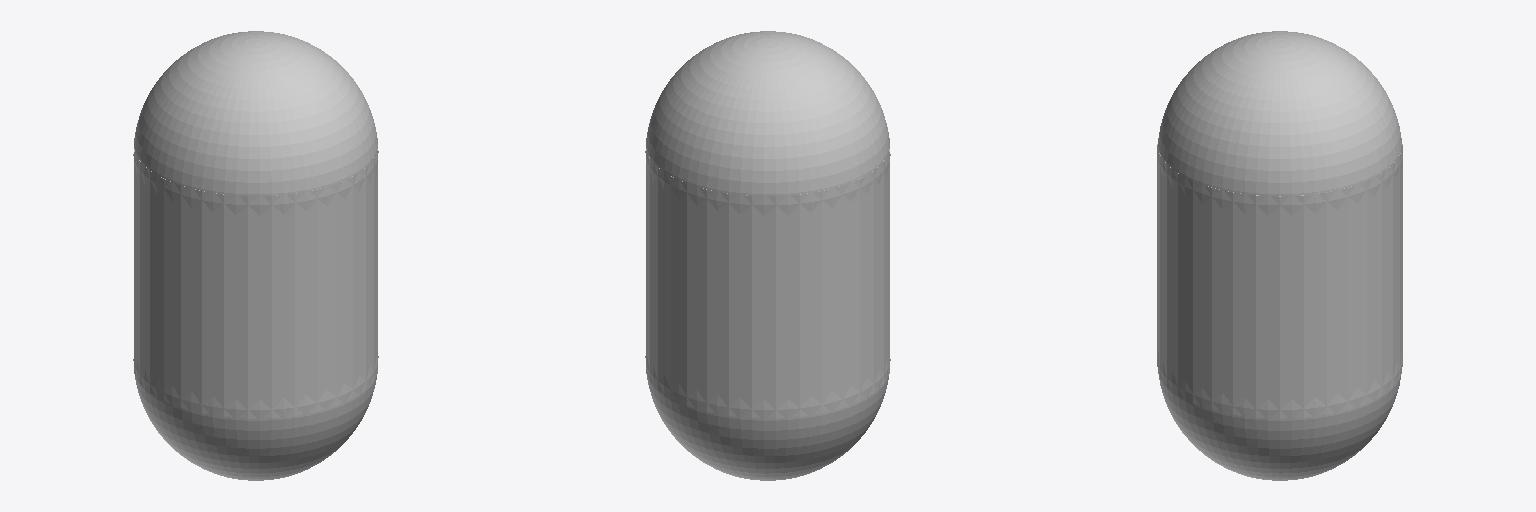
File: bacteria.obj
3 renders of one model, left to right at view 1: azimuth 30°, elevation 25°; view 2: azimuth 150°, elevation 25°; view 3: azimuth 270°, elevation 25°, orthographic.
Parts seen in each view (by area): view 1: Cube; view 2: Cube; view 3: Cube.
Part boxes in pixels (left/top/right/bottom): Cube: left=133, top=31, right=378, bottom=480; Cube: left=645, top=31, right=890, bottom=480; Cube: left=1157, top=31, right=1402, bottom=480.
Size of the model in its own units: 0.3618 by 0.6949 by 0.3618.